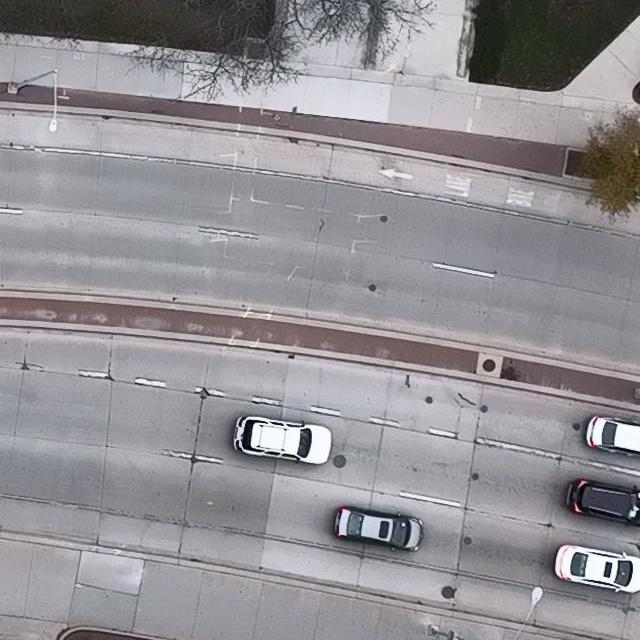car: (233, 414, 333, 465), (554, 544, 640, 594), (333, 507, 423, 554), (565, 479, 640, 528), (586, 414, 640, 456)
